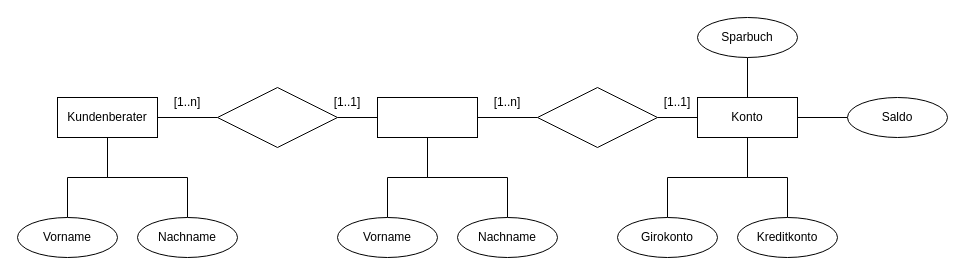
This 965x275 diagram has some shape labels left out. Each missing label, with the centre of its shape:
"betreut" goes at (277,117).
"hat" goes at (597,117).
"Kunde" goes at (427,117).
